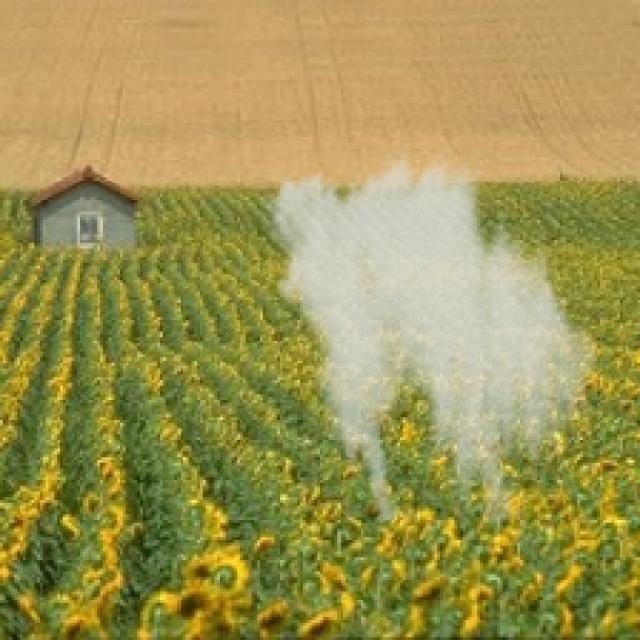smoke: (252, 143, 608, 523)
